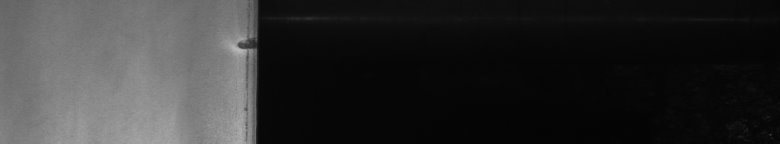hb: (229, 29, 244, 56)
